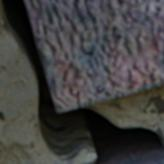brick: (24, 0, 163, 110), (102, 146, 163, 163)
crack: (0, 0, 163, 163)
